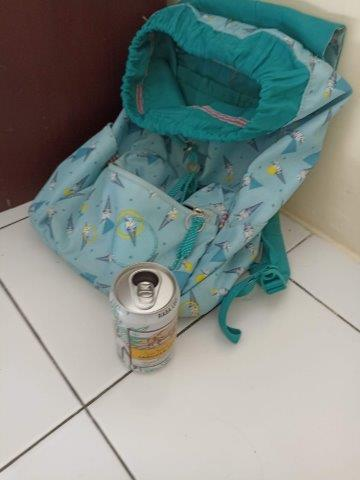kaleng: (110, 264, 182, 374)
